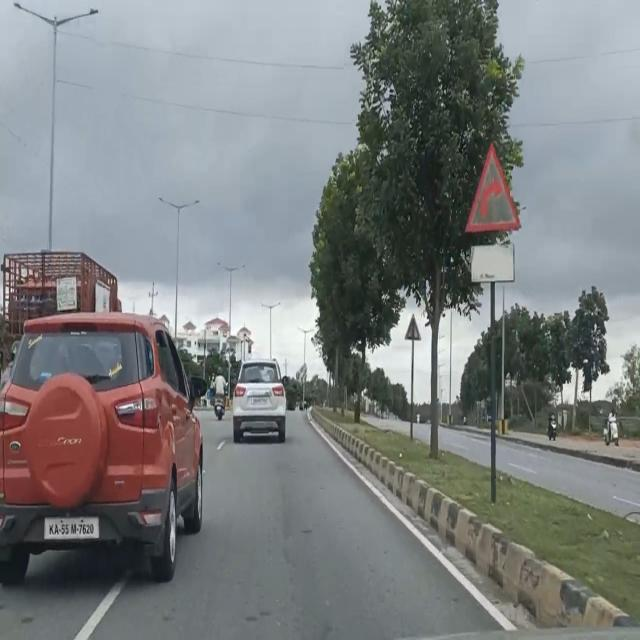bien_cam: (463, 140, 523, 236)
